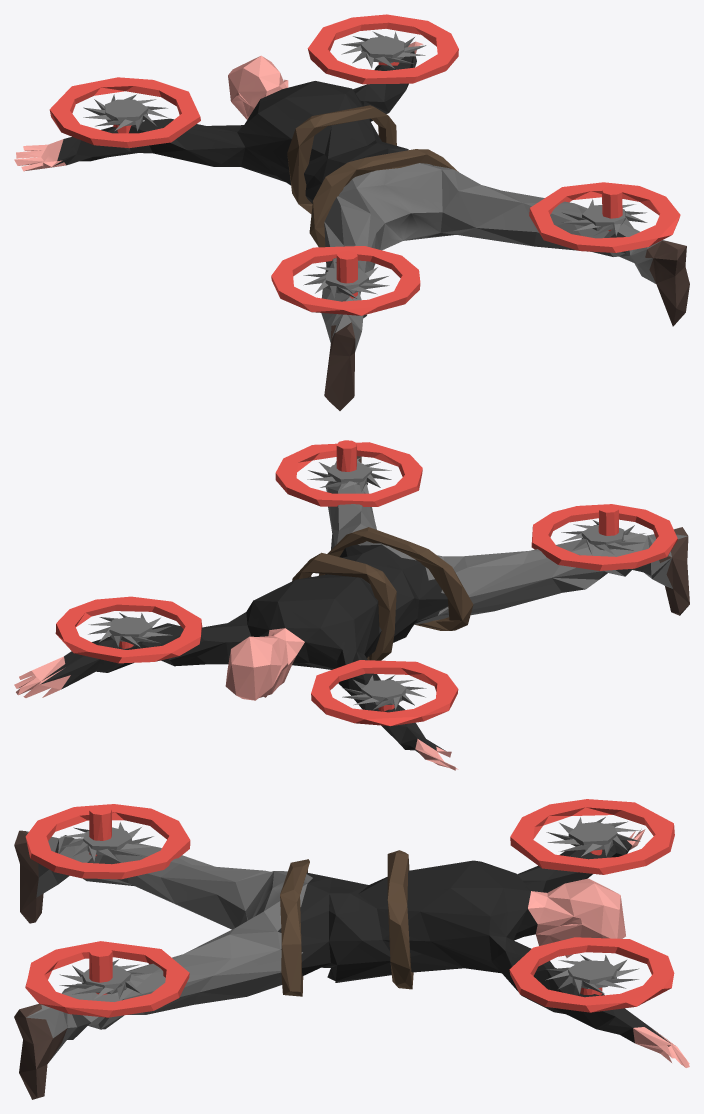
Rendered from bezos_humandrone.fbx.
3 renders of one model, top to bottom at view 1: azimuth 30°, elevation 25°; view 2: azimuth 150°, elevation 25°; view 3: azimuth 270°, elevation 25°, orthographic. The views are drawn at different scales.
Visible parts, largest first — view 1: rp_eric_rigged_001_geo.002; view 2: rp_eric_rigged_001_geo.002; view 3: rp_eric_rigged_001_geo.002.
Boxes of the visible parts, x1,y1,x2,y2 form: rp_eric_rigged_001_geo.002: (14,14,689,410); rp_eric_rigged_001_geo.002: (14,440,689,770); rp_eric_rigged_001_geo.002: (14,799,689,1099).
Size of the model in its own units: 153 by 47.35 by 192.
